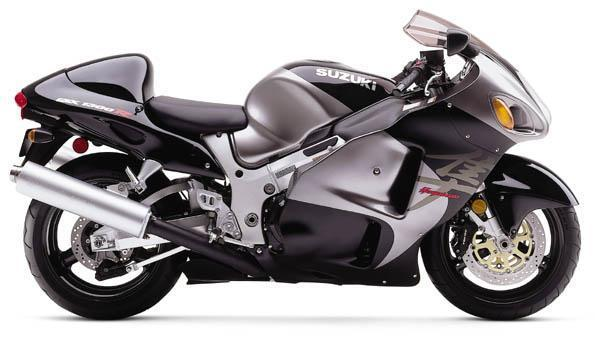motorcycle: (7, 1, 595, 337)
